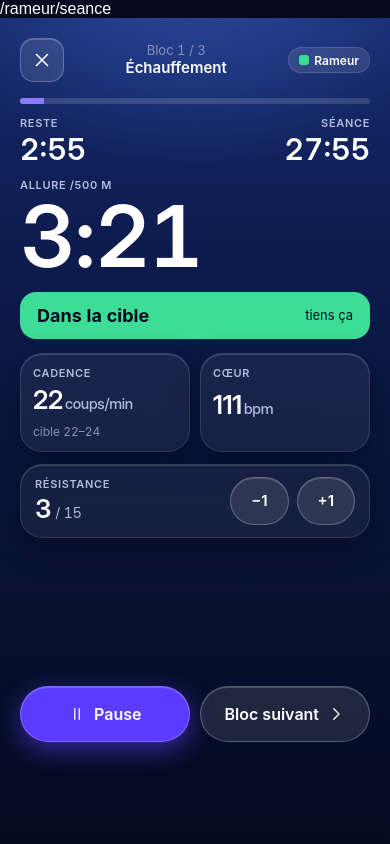
test sur un vrai rameur › arrêtée en plein milieu : enregistrée comme partiellement faite
The width and height of the screenshot is (390, 844).
Click the button named "Terminer la séance" at (42, 60), box [20, 38, 64, 82]
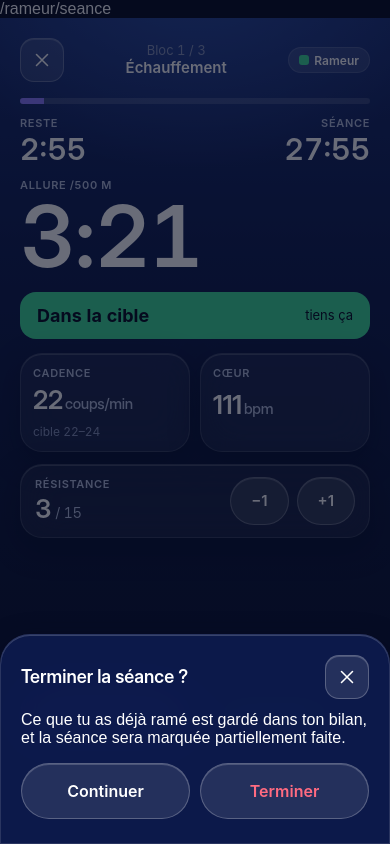
Expected: the text "partiellement faite" is shown, [21, 711, 367, 746]
Click the button "Terminer" at (284, 791), box [200, 763, 369, 819]
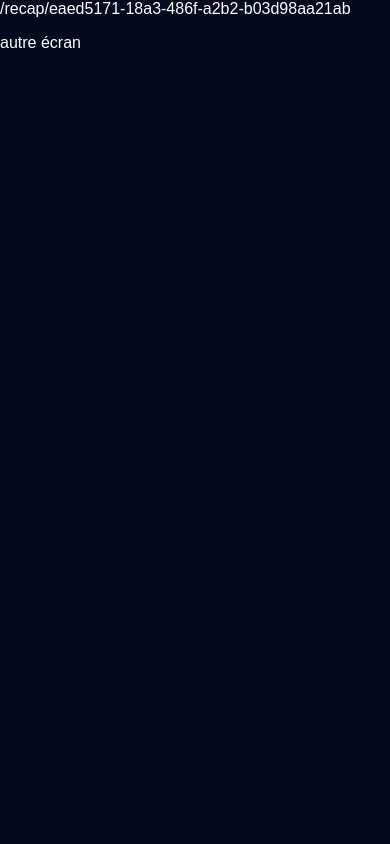
Expected: the text with test id "where" shows "/recap/", [0, 0, 350, 17]
